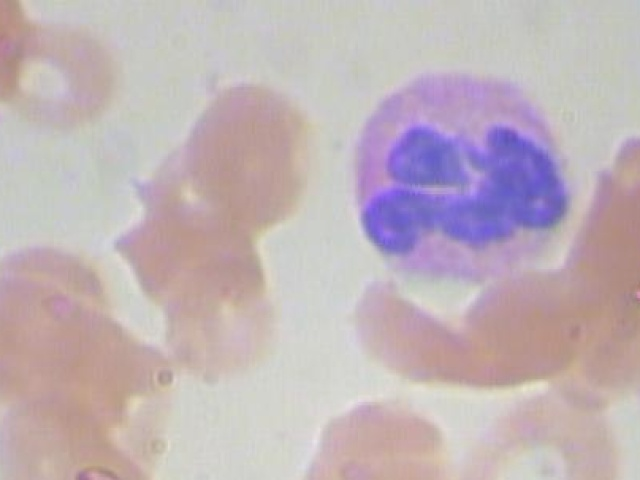Platelets: (634, 376, 640, 436)
RBC: (124, 211, 311, 393), (176, 52, 327, 239), (0, 223, 129, 406), (455, 370, 640, 480), (290, 385, 476, 480), (0, 15, 130, 135), (0, 379, 127, 480), (585, 113, 640, 300), (16, 433, 164, 480), (0, 0, 12, 144)
WBC: (317, 57, 601, 305)
